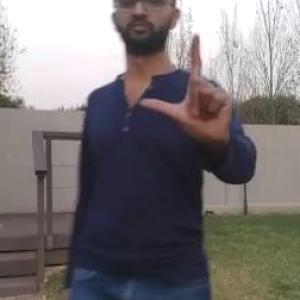land_hand: (139, 27, 238, 149)
